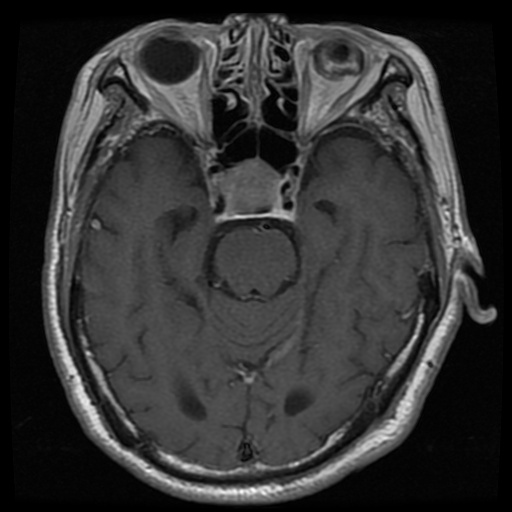pituitary: (211, 159, 284, 210)
